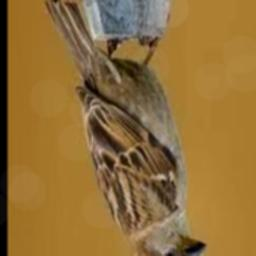Sparrow: (43, 0, 207, 256)
